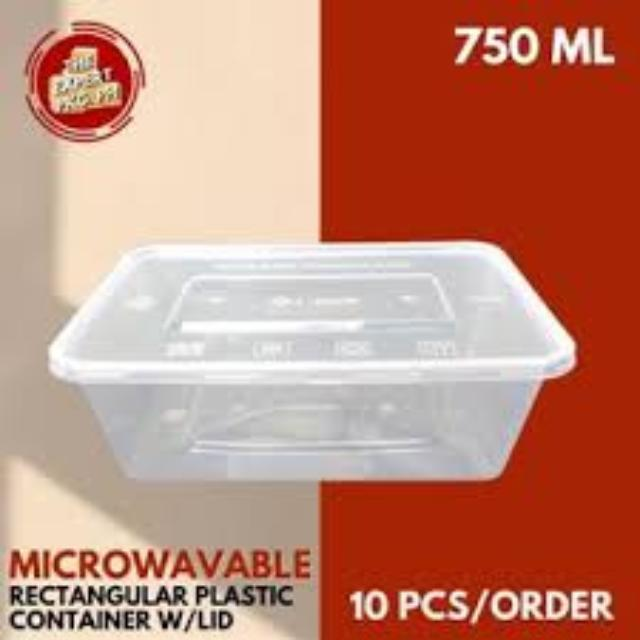Recipiente plastico: (50, 242, 575, 481)
